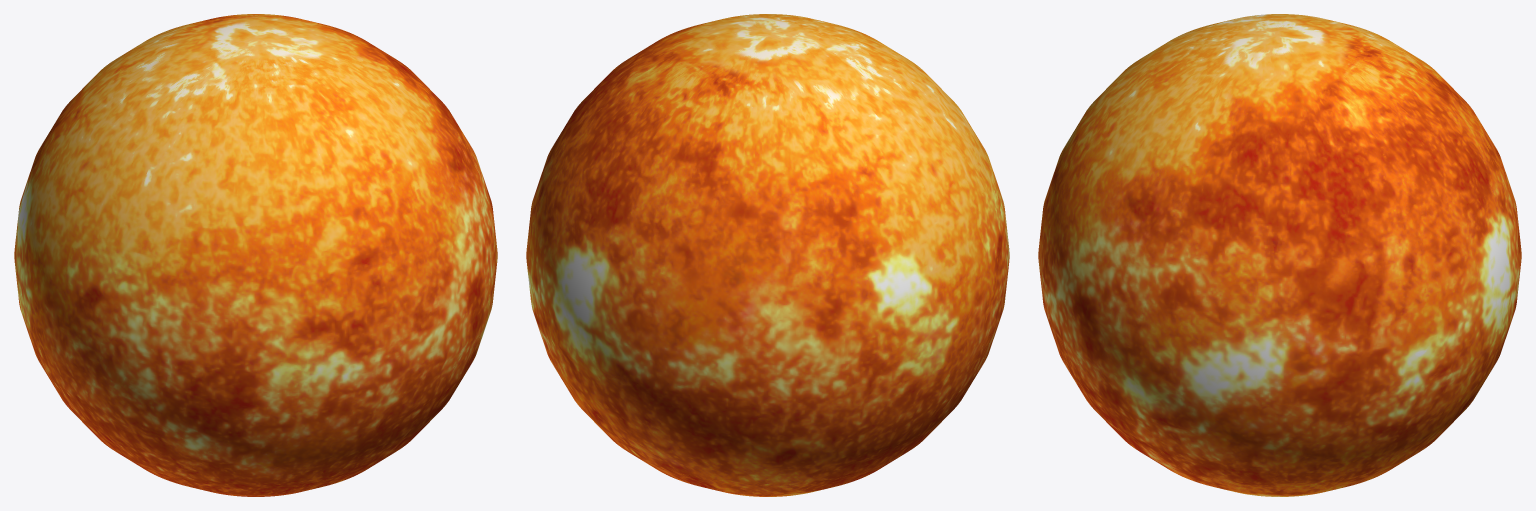
The model's file is Sun.fbx.
3 views of the same model, side by side, from view 1: azimuth 30°, elevation 25°; view 2: azimuth 150°, elevation 25°; view 3: azimuth 270°, elevation 25° (orthographic).
Visible parts, largest first — view 1: Sphere; view 2: Sphere; view 3: Sphere.
Part boxes in pixels (left/top/right/bottom): Sphere: left=14, top=14, right=497, bottom=496; Sphere: left=526, top=14, right=1009, bottom=496; Sphere: left=1038, top=14, right=1521, bottom=496.
Bounding box in the file's own units: 200 × 200 × 200.
1 material, 1 textured.
